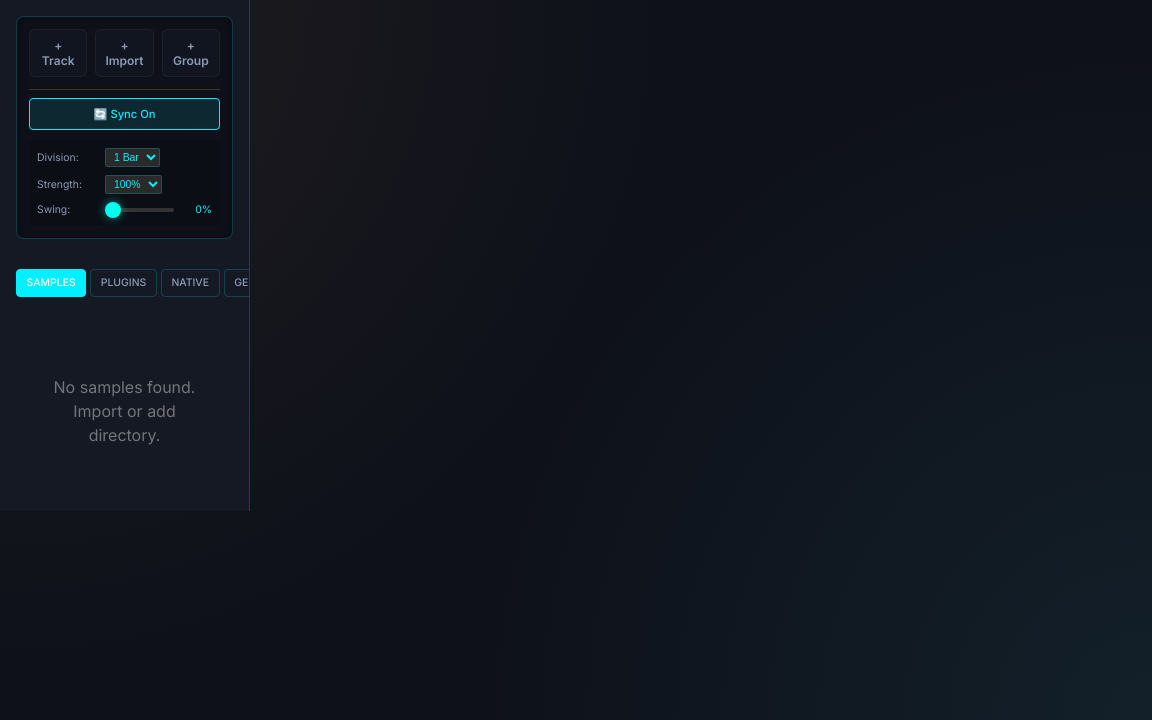
Test: Library Component › toggles sync preview state
Click the button titled "Sync previews to Project BPM" at (124, 114), box [29,98,220,130]
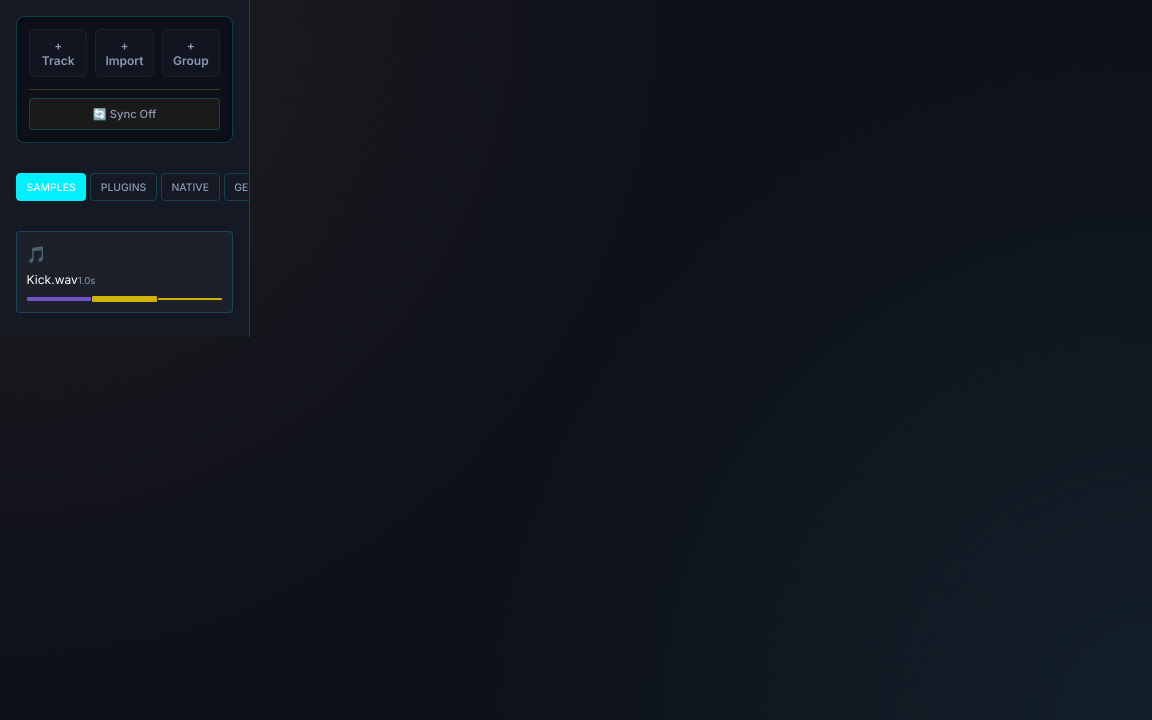
Expected: the button titled "Sync previews to Project BPM" shows "Sync Off", [29,98,220,130]
